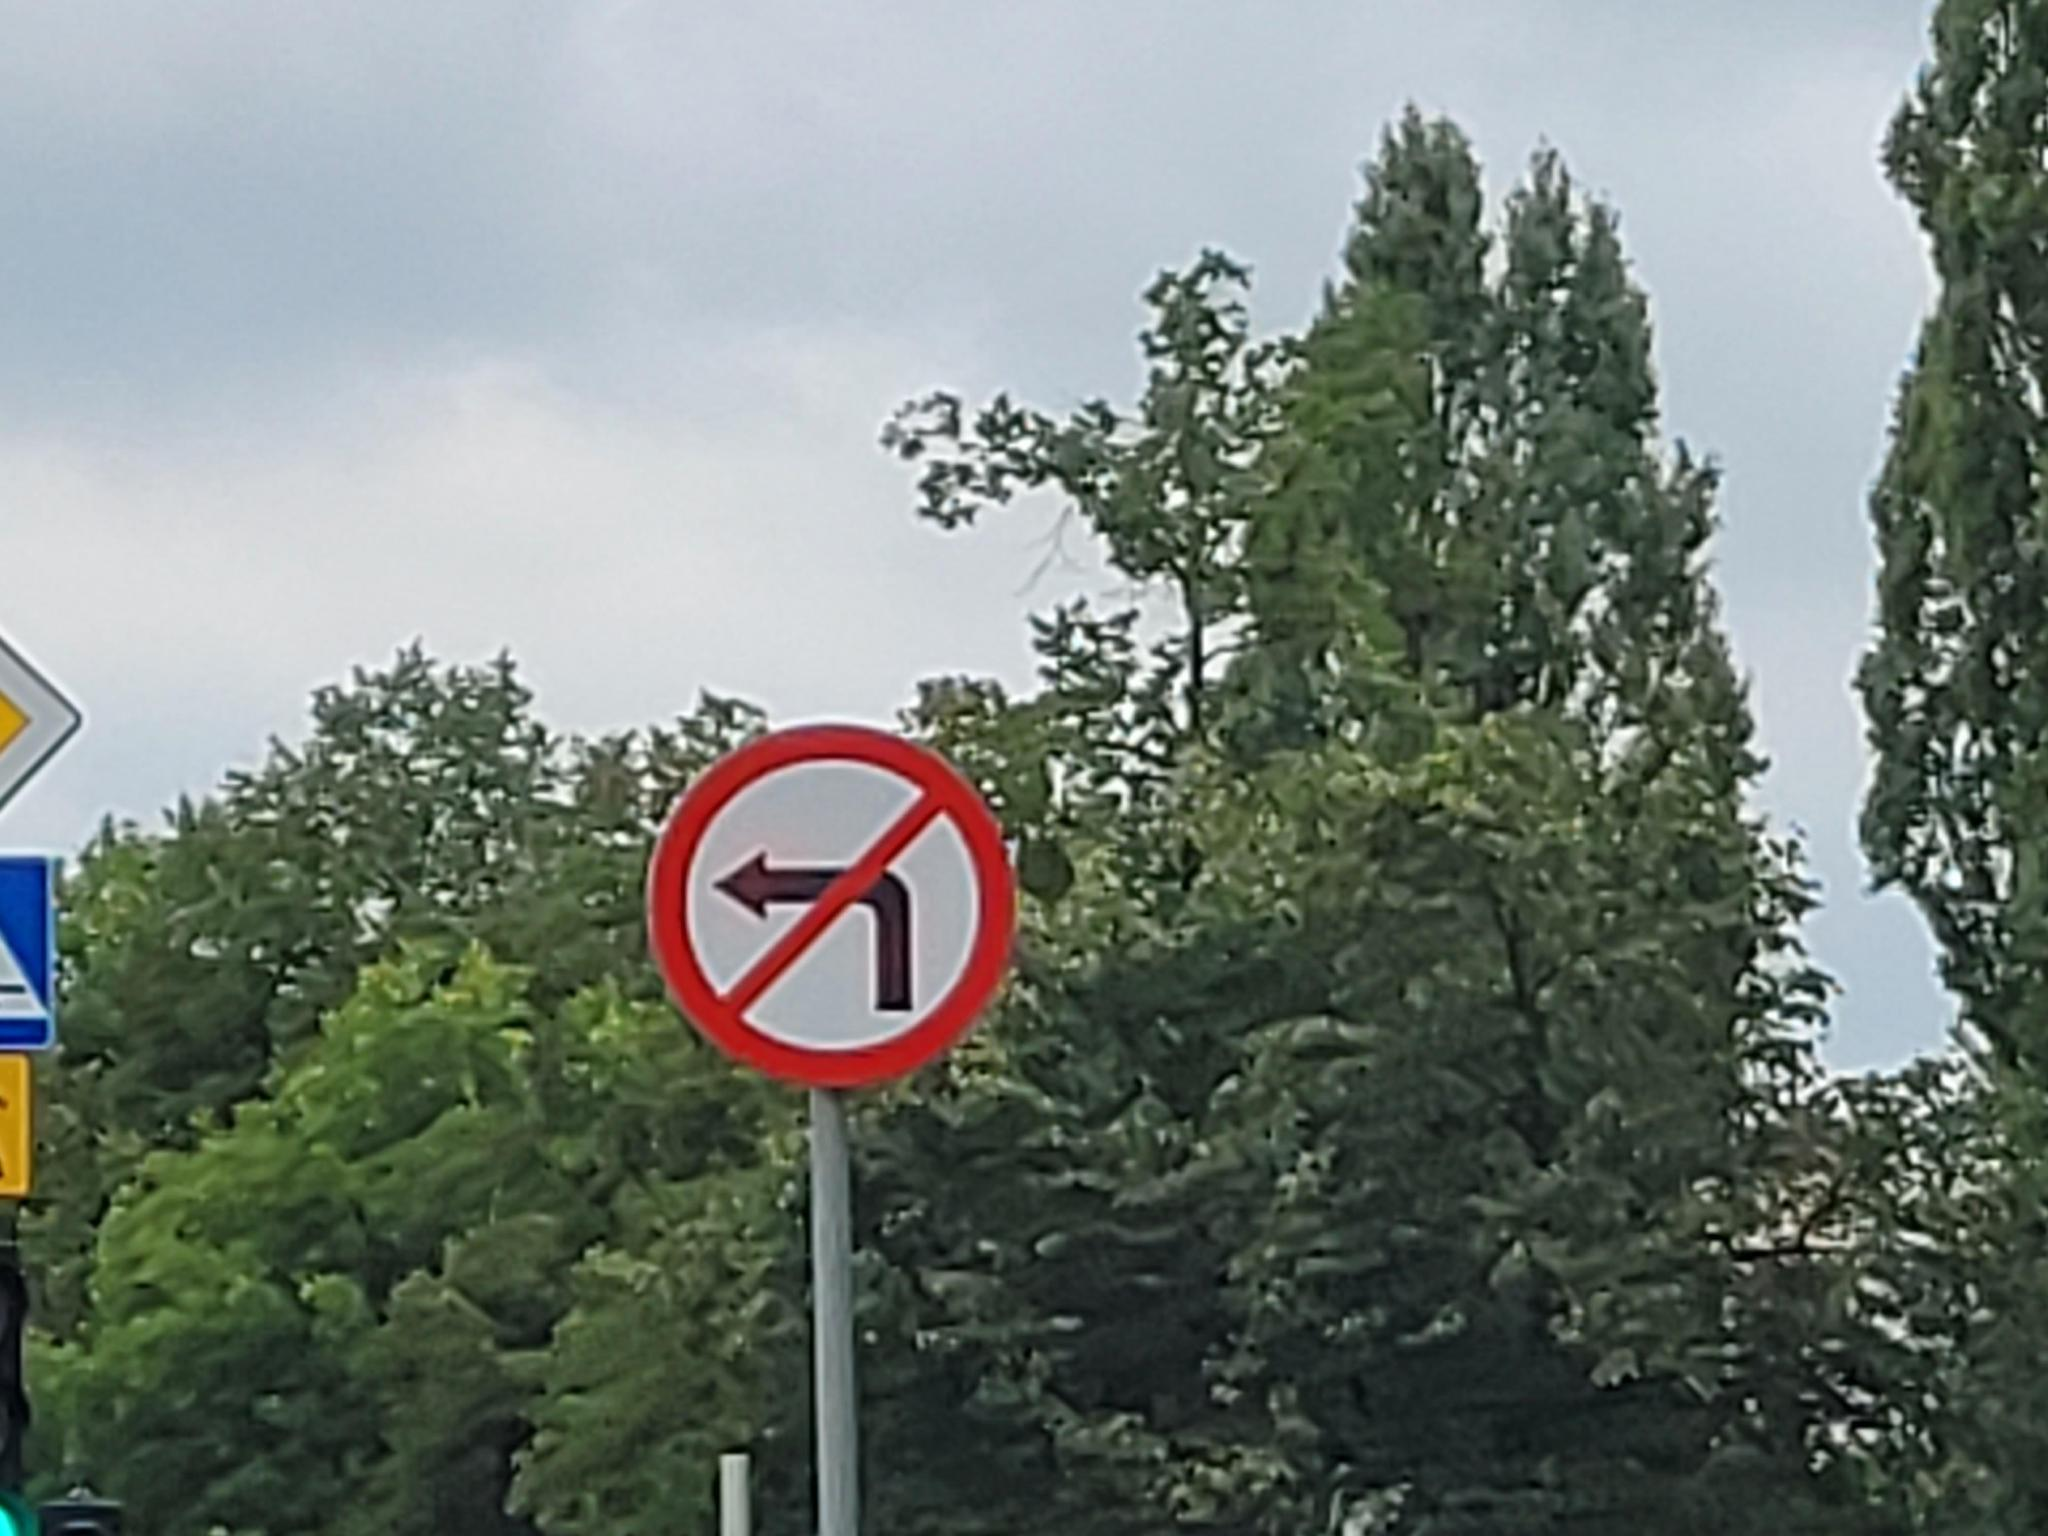information: (0, 631, 87, 815), (0, 855, 52, 1049)
other: (0, 1054, 32, 1194)
prohibitory: (642, 718, 1019, 1092)
